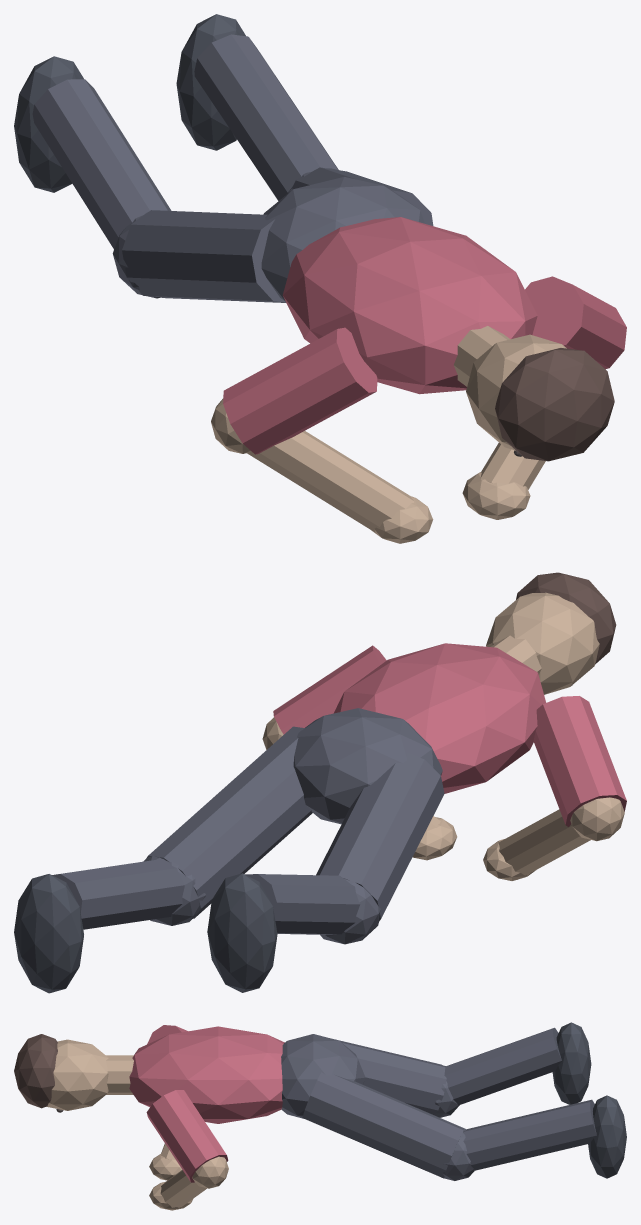
3 views of the same model, one above another, from view 1: azimuth 30°, elevation 25°; view 2: azimuth 150°, elevation 25°; view 3: azimuth 270°, elevation 25° (orthographic). The views are drawn at different scales.
Visible parts, largest first — view 1: world; view 2: world; view 3: world.
Boxes of the visible parts, bbox=[...] form: world: bbox=[14, 14, 626, 543]; world: bbox=[14, 572, 626, 993]; world: bbox=[14, 1022, 626, 1210].
Bounding box in the file's own units: 0.93 × 0.565 × 2.
